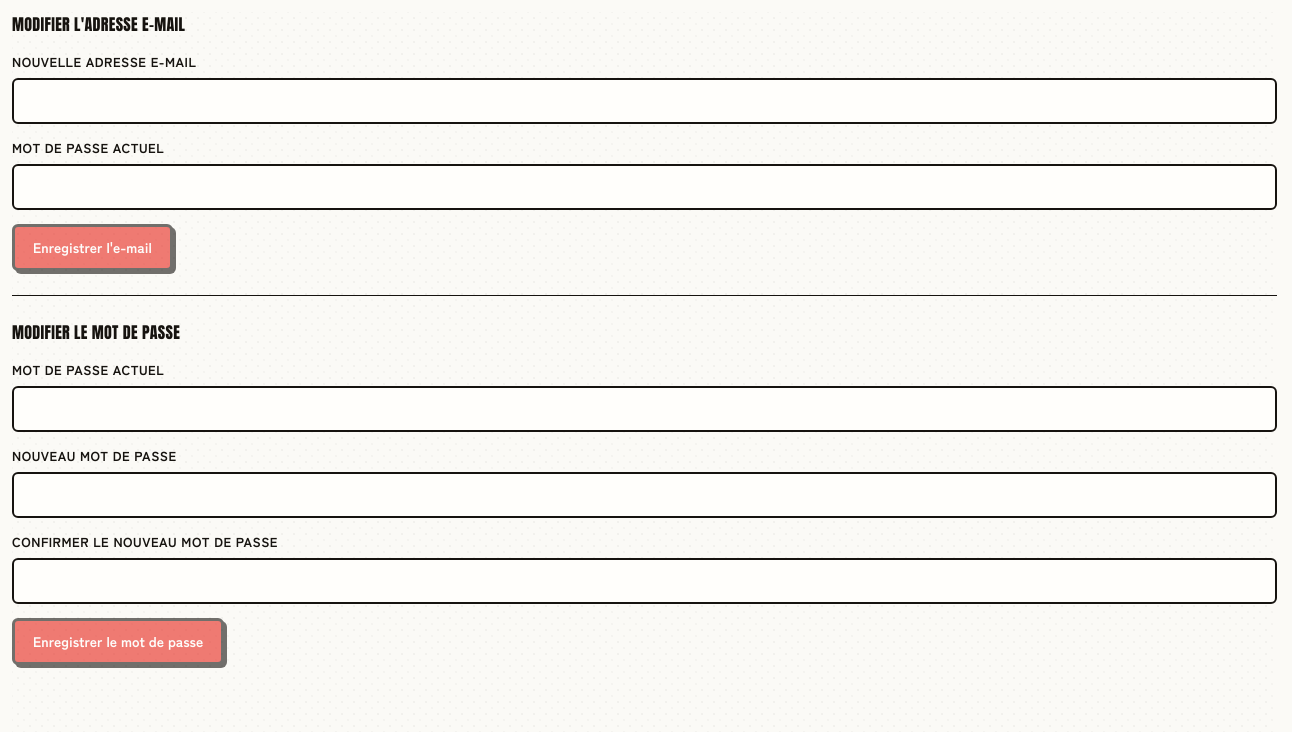
Test: SecurityIdentifiants › password form: shows success after changePassword
Expected: the heading "Modifier le mot de passe" is shown, [12,320,180,344]
Type "oldPass1" into the password field labelled "Mot de passe actuel" below "Modifier le mot de passe" at (644, 409), box [12,386,1277,432]
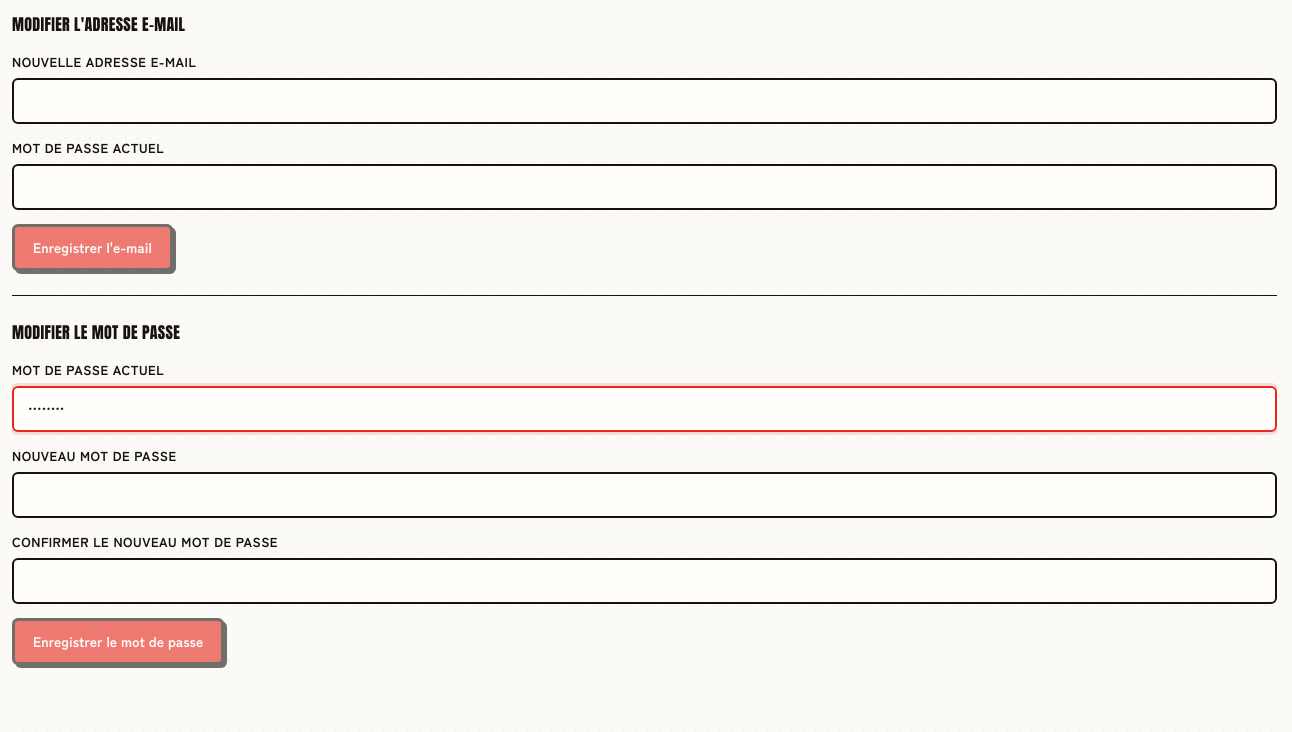
Type "newPass1!" into the password field labelled "Nouveau mot de passe" at (644, 495), box [12,472,1277,518]
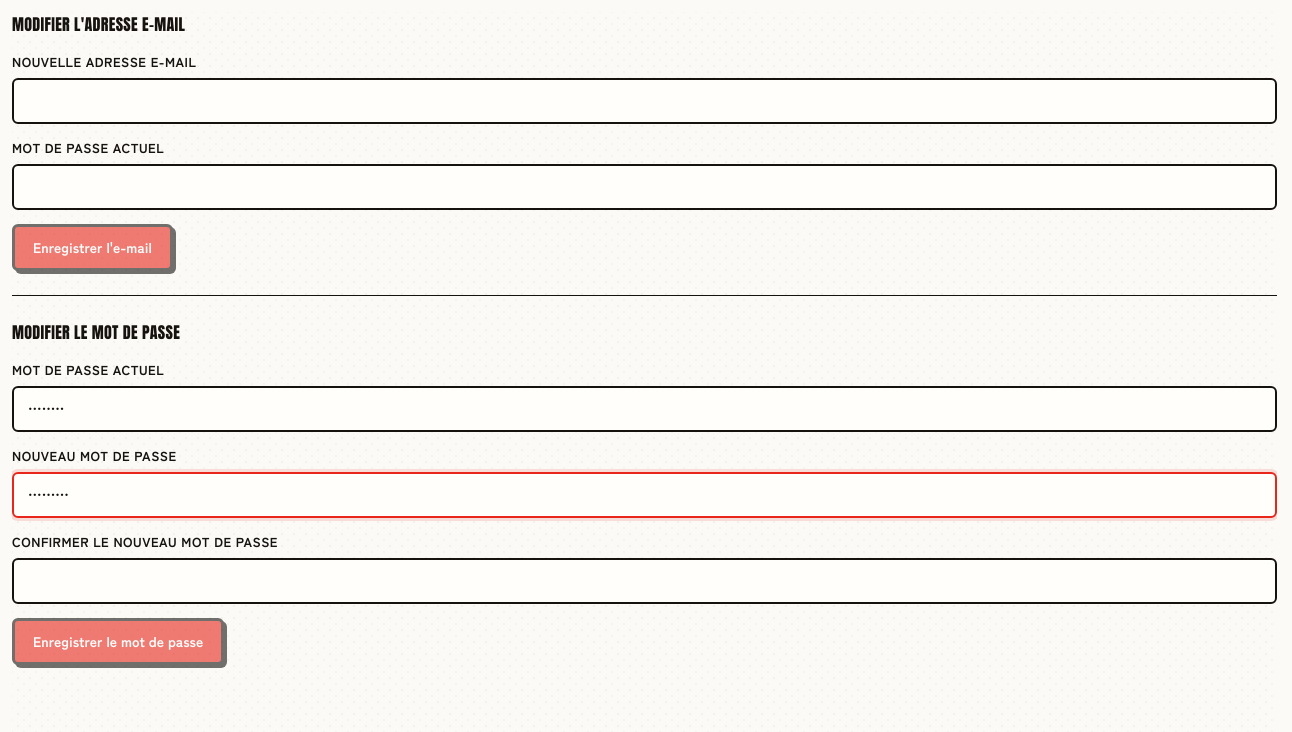
Type "newPass1!" into the password field labelled "Confirmer le nouveau mot de passe" at (644, 581), box [12,558,1277,604]
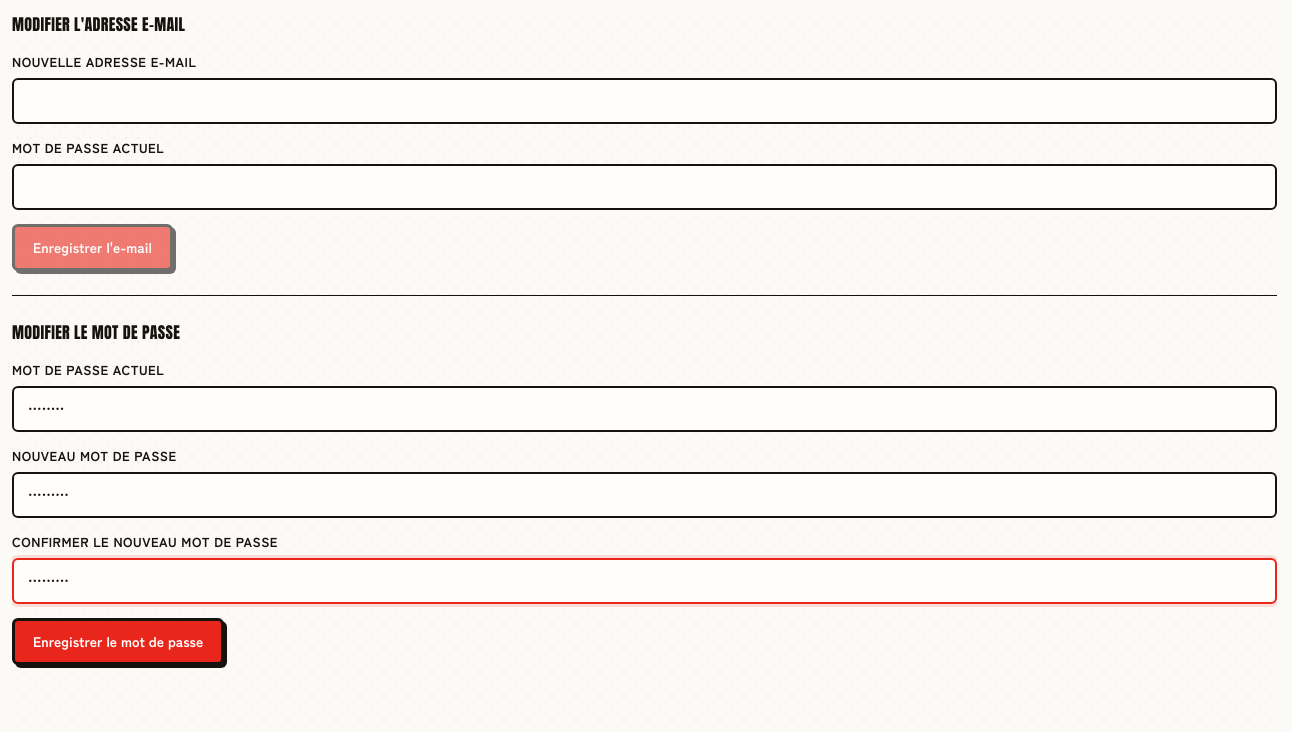
Click the button "Enregistrer le mot de passe" at (118, 642), box [12,618,224,665]
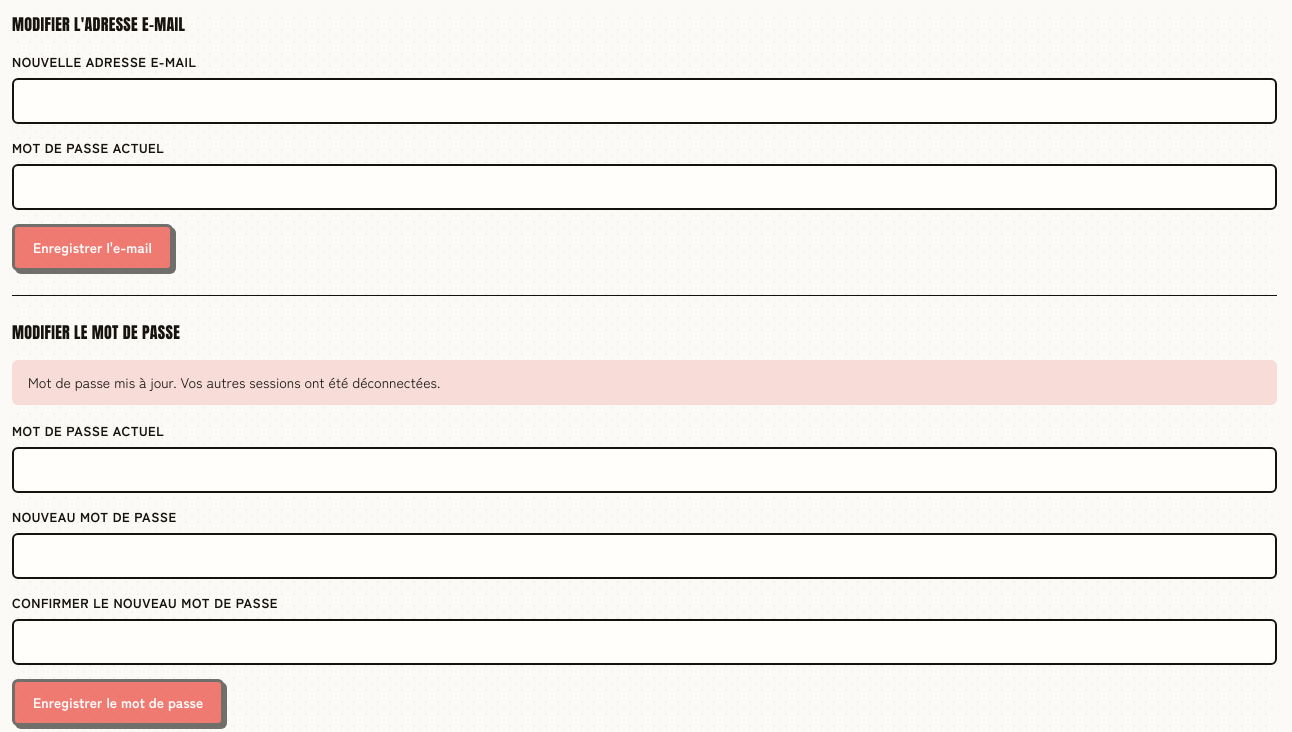
Result: the text "Mot de passe mis à jour. Vos autres sessions ont été déconnectées." is shown at [12,360,1277,405]
